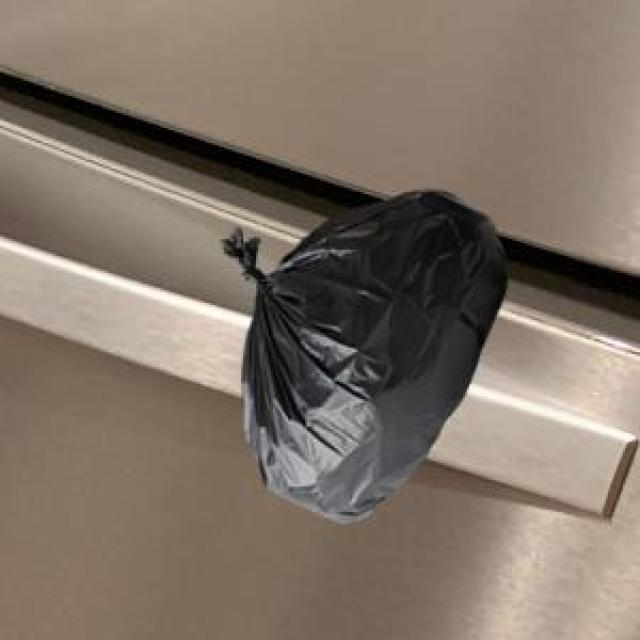miscellaneous trash: (218, 186, 504, 518)
